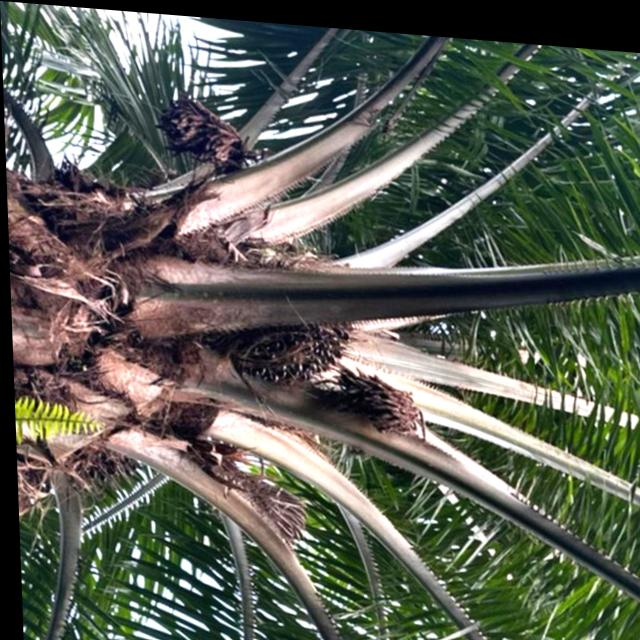almost: (217, 291, 352, 387)
